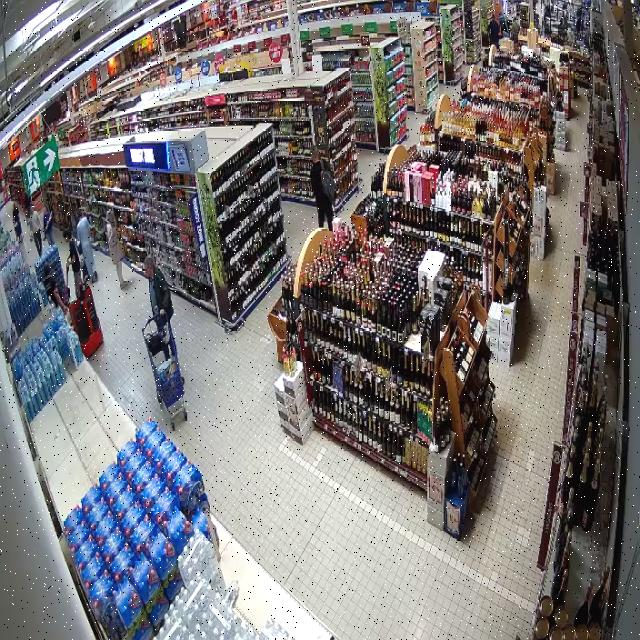bags: (322, 169, 335, 202)
person: (145, 258, 173, 329), (310, 149, 334, 227)
